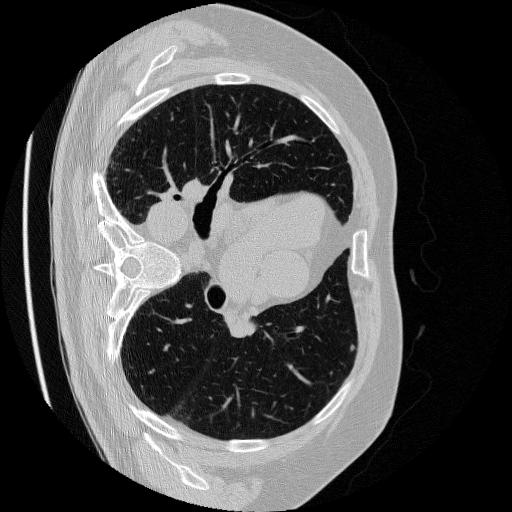nodule: (349, 345, 360, 356)
